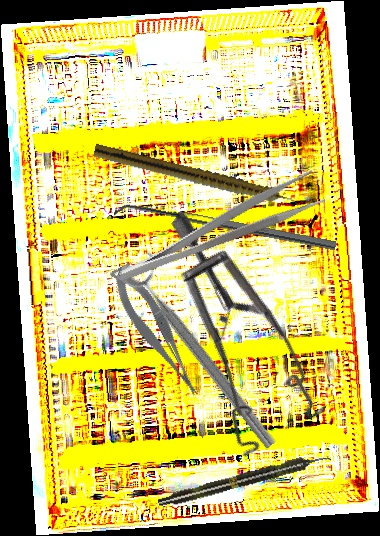Dressing Forceps: (106, 167, 328, 289)
Fixation Ring: (118, 246, 292, 454)
Handpiece: (91, 142, 302, 213), (156, 449, 333, 511)
Micro Scissor: (105, 258, 205, 407)
Spatula Surgical: (113, 198, 337, 260)
Speculum: (84, 209, 371, 480)
